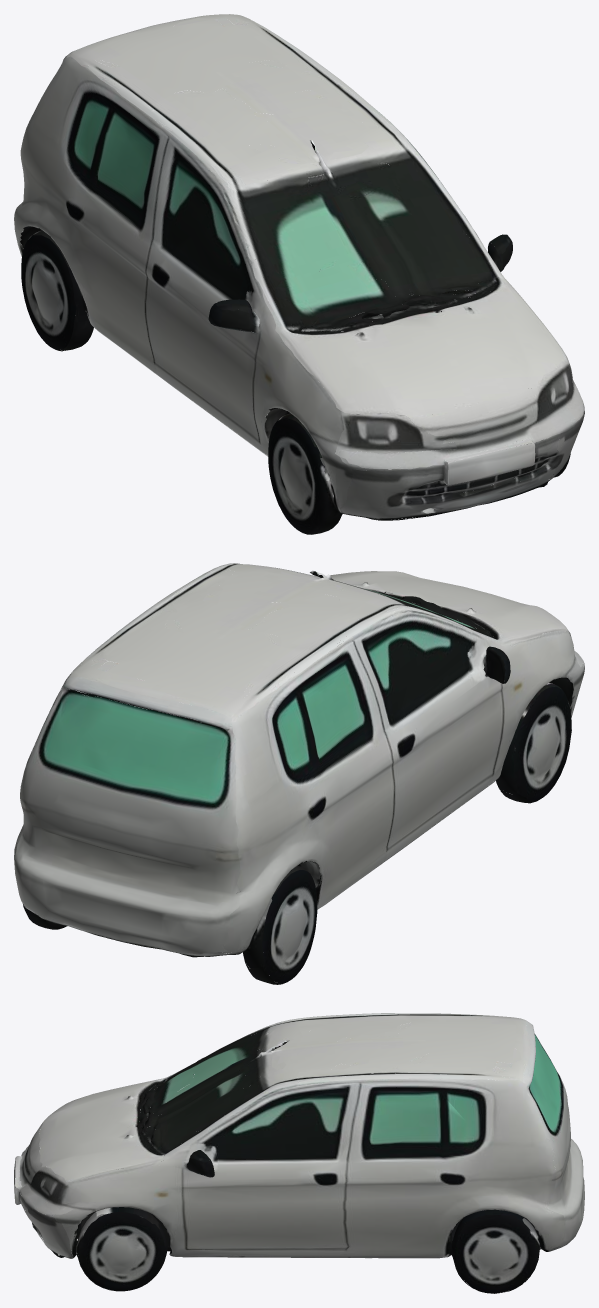
Rendered from hatch.glb.
The picture shows the model from 3 angles, top to bottom: view 1: azimuth 30°, elevation 25°; view 2: azimuth 150°, elevation 25°; view 3: azimuth 270°, elevation 25°; orthographic projection. The views are drawn at different scales.
Parts seen in each view (by area): view 1: hatch; view 2: hatch; view 3: hatch.
Part boxes in pixels (x1,y1,x2,y2): hatch: (14,14,584,534); hatch: (14,563,584,984); hatch: (14,1013,584,1293).
Size of the model in its own units: 1.68 by 1.52 by 3.75.
1 material, 1 textured.
